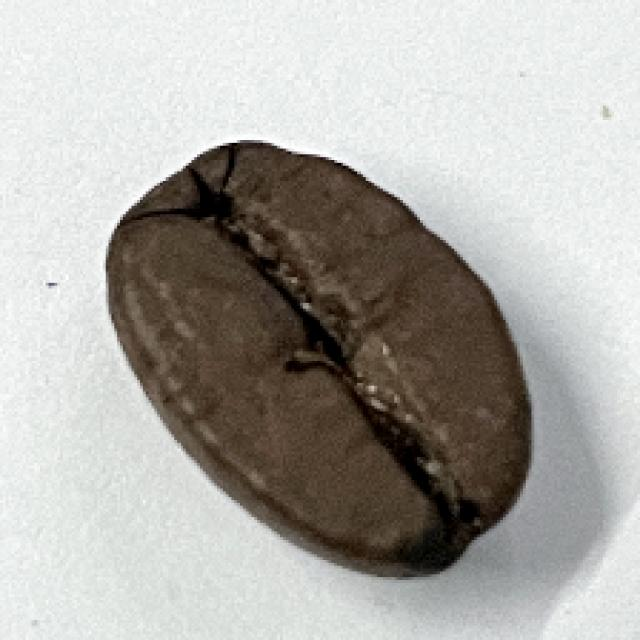bean: (104, 139, 530, 575)
